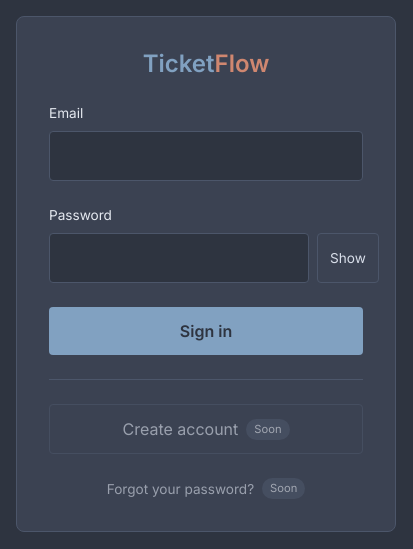
Test: LoginPage › alterna entre ocultar y mostrar la contraseña al pulsar el botón de alternancia
Note: el usuario pulsa "Show"
Click the button "Show": point(348, 258) [317, 234, 379, 284]
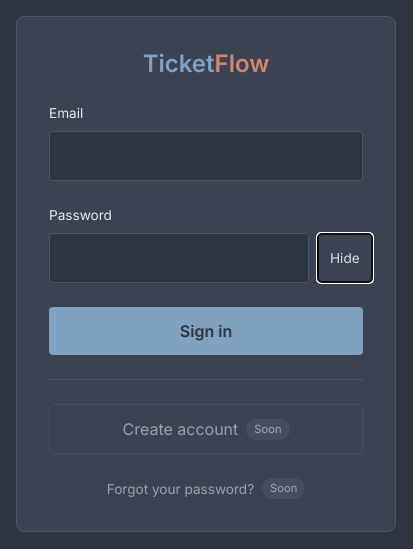
Expected: the button "Hide" is shown, [317, 234, 373, 284]
